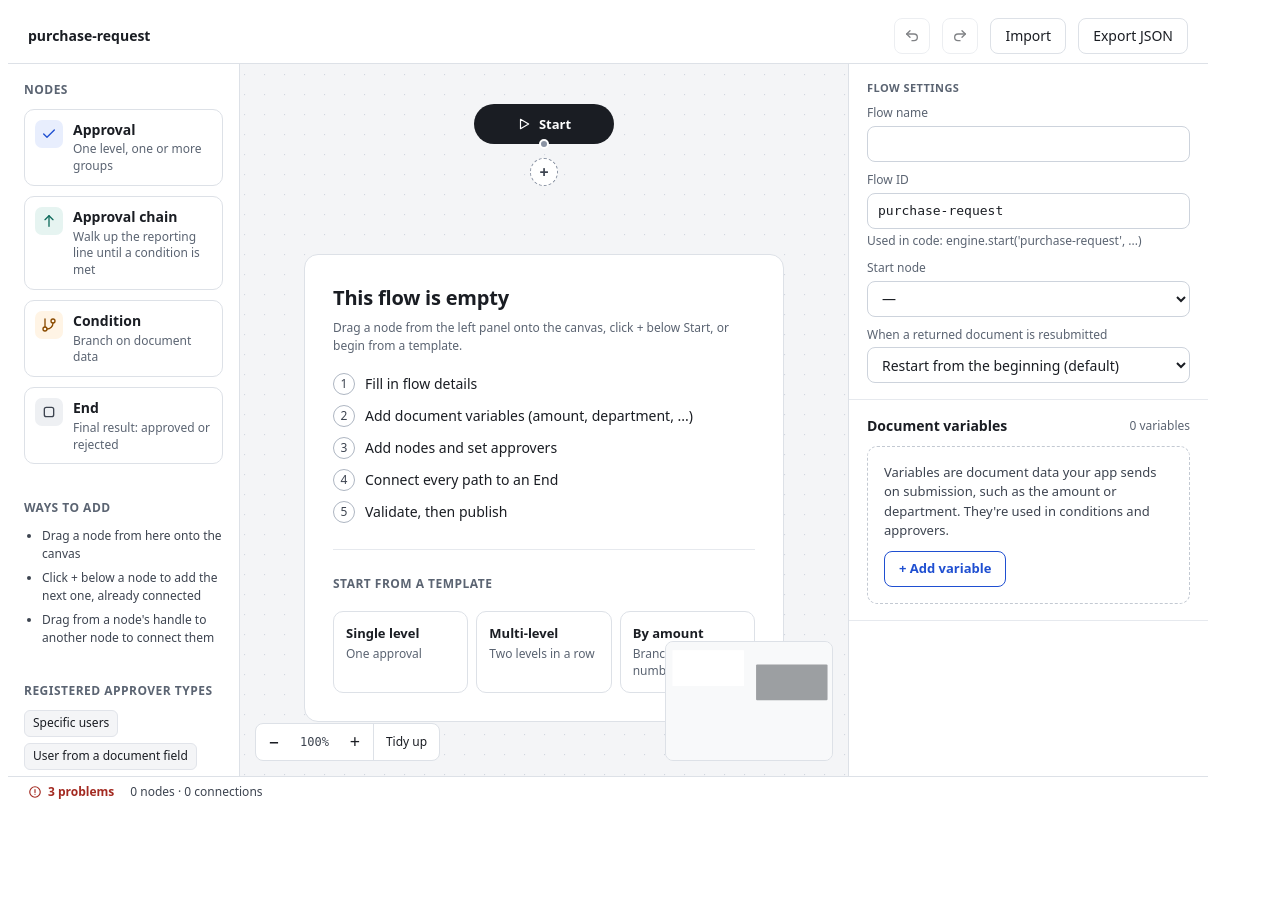
Test: canvas › starts an empty flow from the Start "+" or a template
The width and height of the screenshot is (1280, 900).
Expected: the text "This flow is empty" is shown, left=333, top=284, right=509, bottom=311
What coordinates should you click on to do the following:
click the button named "Add next node"
I would click on:
 (544, 172)
Its box is left=530, top=158, right=558, bottom=186.
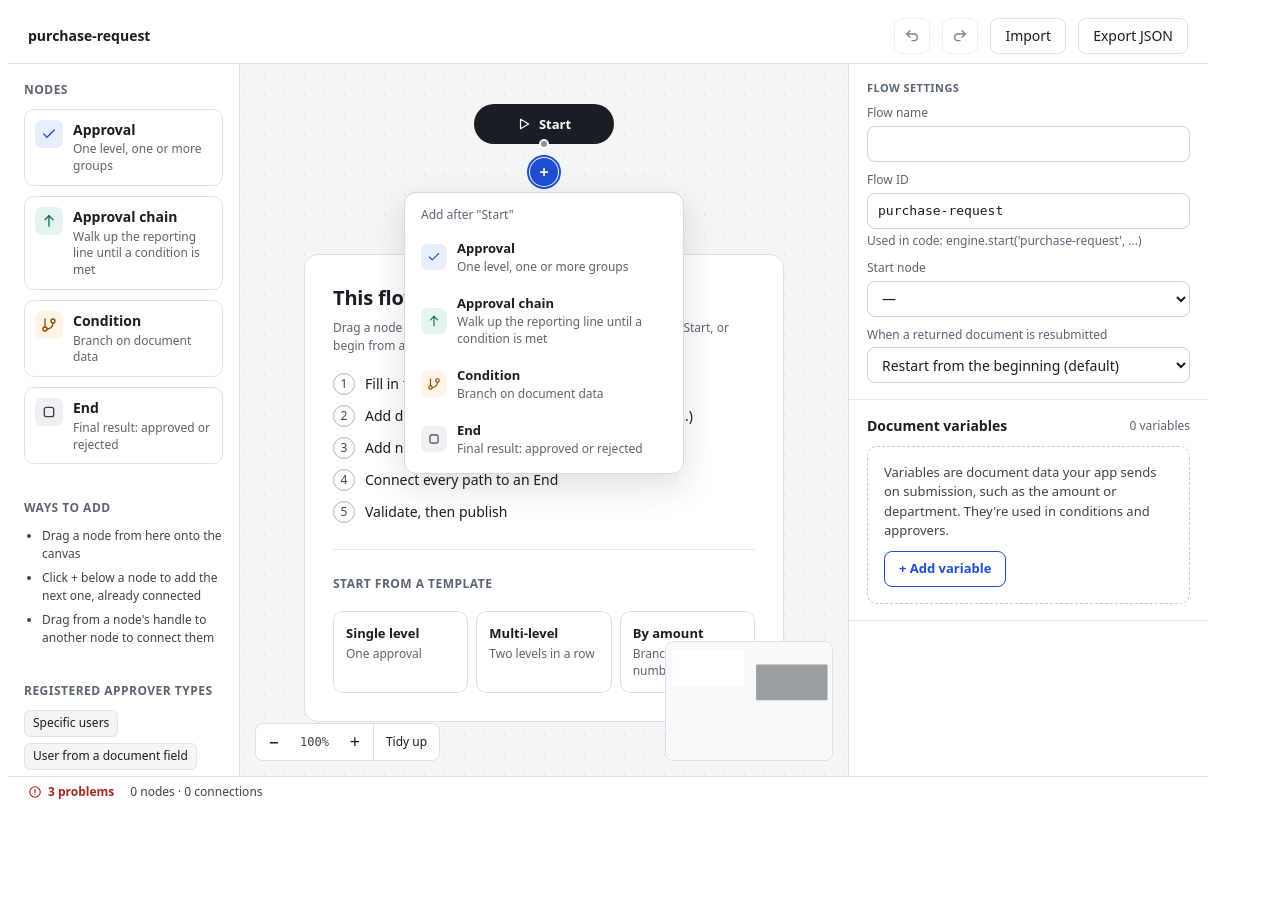
Now the number of menu items is 4
What coordinates should you click on to do the following:
click the menu item "Condition Branch on document data"
I would click on:
 (544, 384)
Its box is left=411, top=357, right=677, bottom=412.
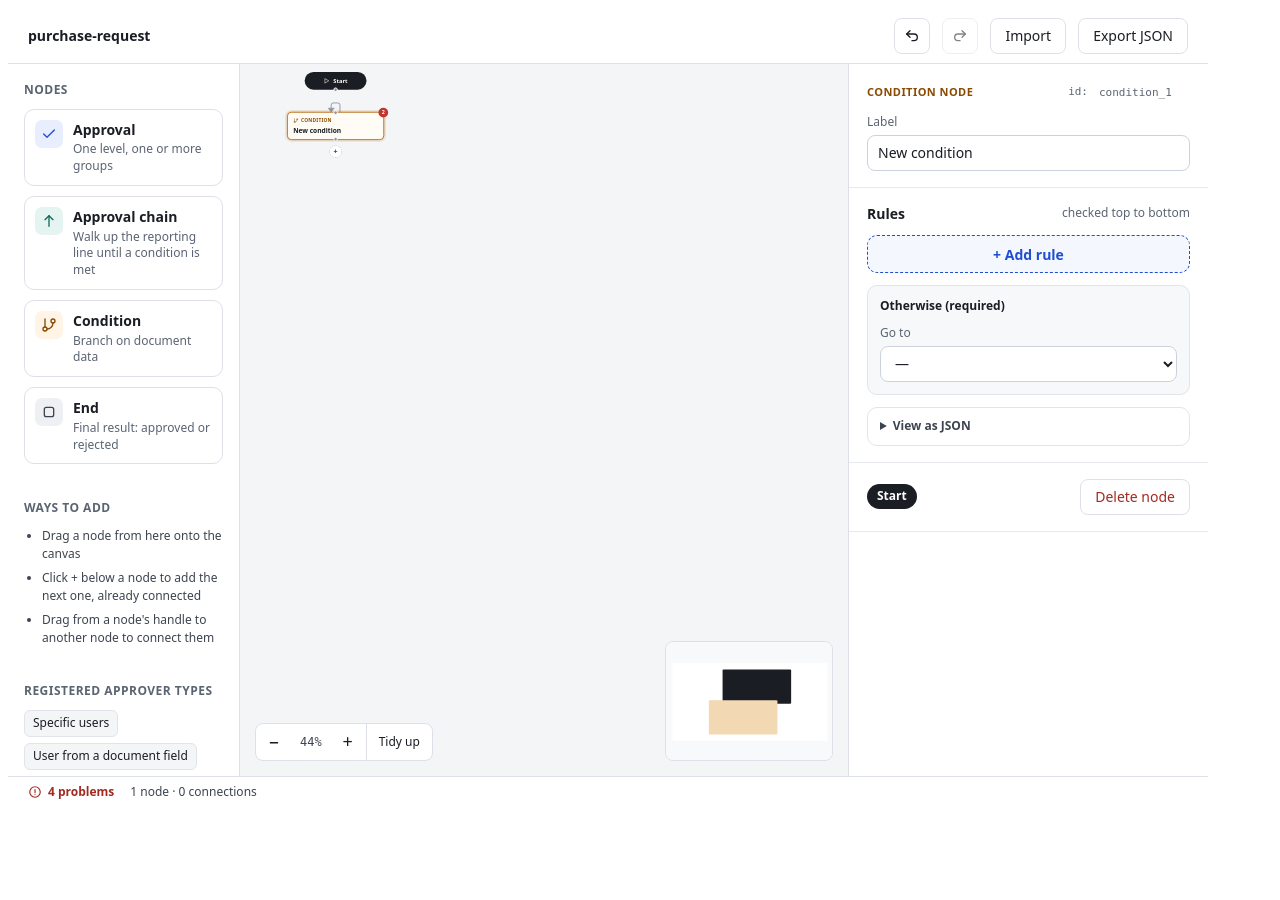
Now the field named "Node ID" holds "condition_1", box left=1092, top=80, right=1190, bottom=104
